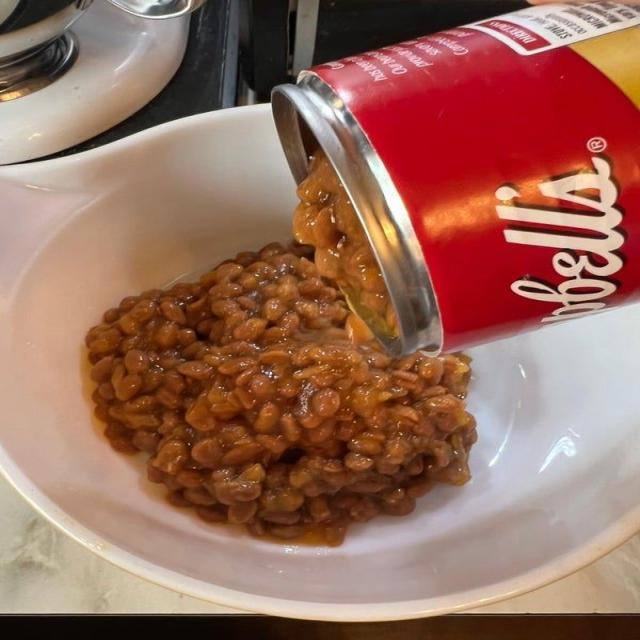beans: (87, 245, 475, 543), (153, 440, 187, 475), (191, 438, 221, 468), (311, 389, 340, 417), (228, 502, 258, 523), (178, 361, 213, 379), (160, 301, 186, 325), (124, 349, 150, 373), (91, 356, 115, 382)
